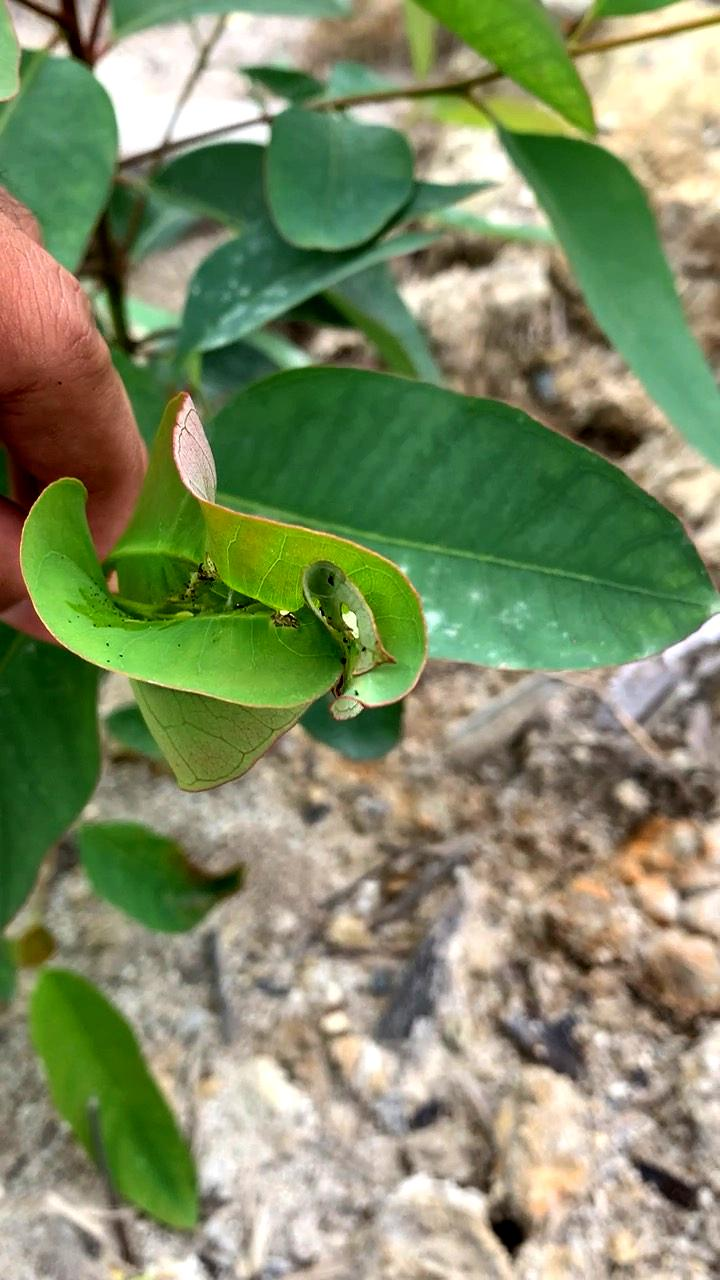Leaf Roller - Leaf: (0, 380, 433, 820)
